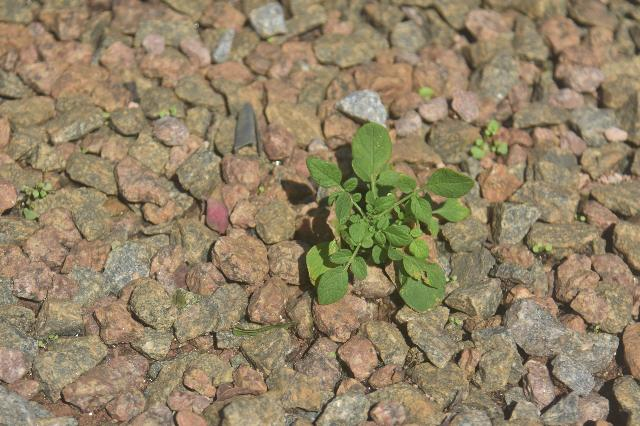MalezaMontesDelPlata: (291, 119, 482, 316)
